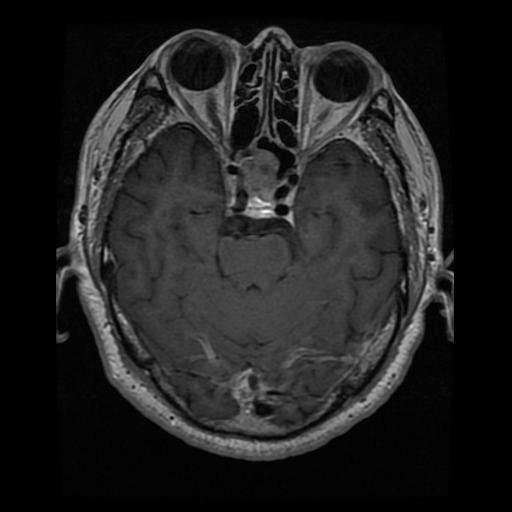Tumour-Pituitary: (216, 173, 303, 228)
